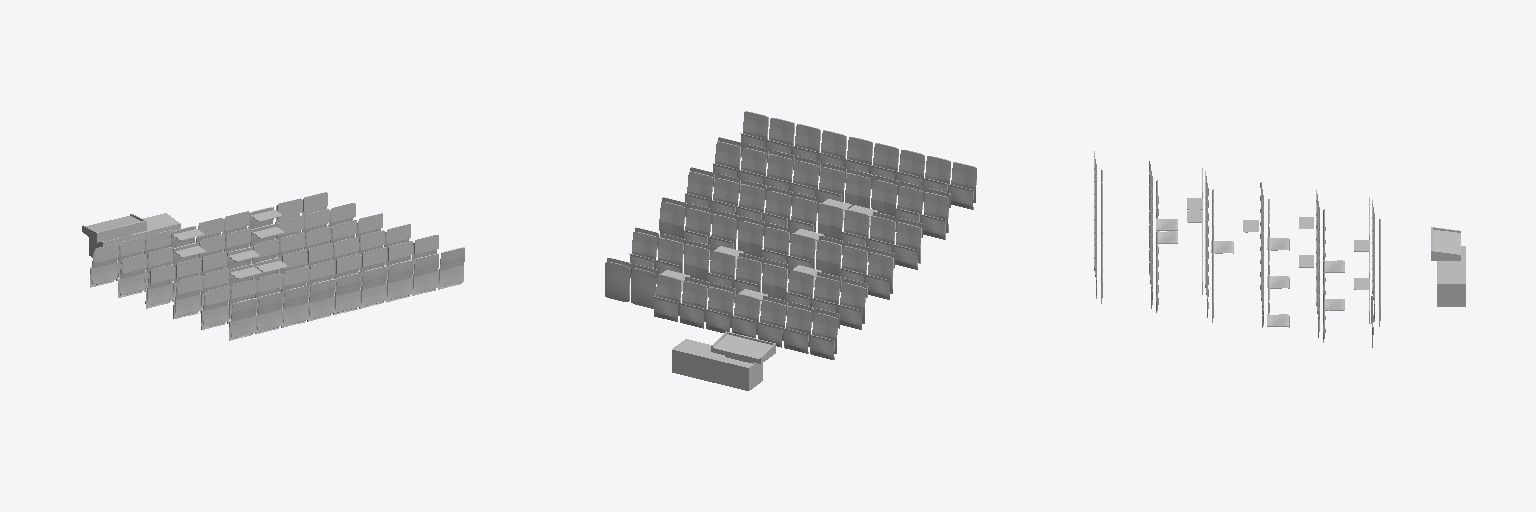
The model's file is sc3_stuehle_pult.obj.
3 renders of one model, left to right at view 1: azimuth 30°, elevation 25°; view 2: azimuth 150°, elevation 25°; view 3: azimuth 270°, elevation 25°, orthographic.
Visible parts, largest first — view 1: Pult, Lehne.045, Lehne.046, Lehne.048, Lehne.050, Lehne.047, Lehne.049, Lehne.051, Lehne.052, Lehne.053, Lehne, Lehne.009 (+3 smaller); view 2: Pult, Lehne.008, Lehne.007, Lehne.026, Lehne.015, Lehne.012, Lehne.020, Lehne.038, Lehne.023, Lehne.030, Lehne.039, Lehne.027 (+28 smaller); view 3: Pult.
Part boxes in pixels (x1,y1,x2,y2): Pult: (82, 213, 180, 259); Lehne.045: (231, 298, 256, 337); Lehne.046: (257, 292, 282, 331); Lehne.048: (309, 279, 334, 318); Lehne.050: (361, 266, 386, 305); Lehne.047: (283, 286, 308, 324); Lehne.049: (335, 273, 360, 312); Lehne.051: (387, 260, 412, 299); Lehne.052: (413, 254, 438, 293); Lehne.053: (439, 247, 464, 286); Lehne: (92, 251, 116, 284); Lehne.009: (120, 261, 144, 295); Pult: (672, 331, 775, 390); Lehne.008: (605, 262, 629, 301); Lehne.007: (631, 268, 655, 308); Lehne.026: (659, 202, 684, 238); Lehne.015: (684, 244, 709, 281); Lehne.012: (762, 263, 787, 300); Lehne.020: (816, 240, 841, 276); Lehne.038: (871, 180, 896, 216); Lehne.023: (738, 221, 762, 257); Lehne.030: (818, 203, 842, 240); Lehne.039: (845, 173, 870, 208); Lehne.027: (896, 222, 921, 263); Pult: (1431, 227, 1465, 306).
Bounding box in the file's own units: 12.61 × 5.07 × 17.43.